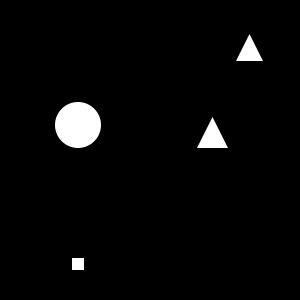circle: (72, 258, 84, 270)
rectangle: (55, 102, 101, 148)
triangle: (197, 117, 228, 148), (236, 34, 263, 61)
